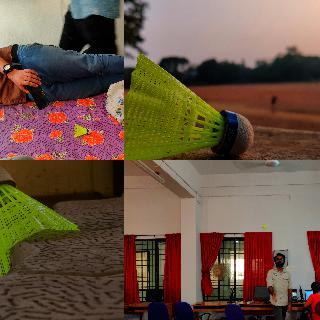shuttlecock: (124, 51, 254, 159), (0, 165, 80, 275), (74, 124, 90, 136), (260, 224, 266, 230)
